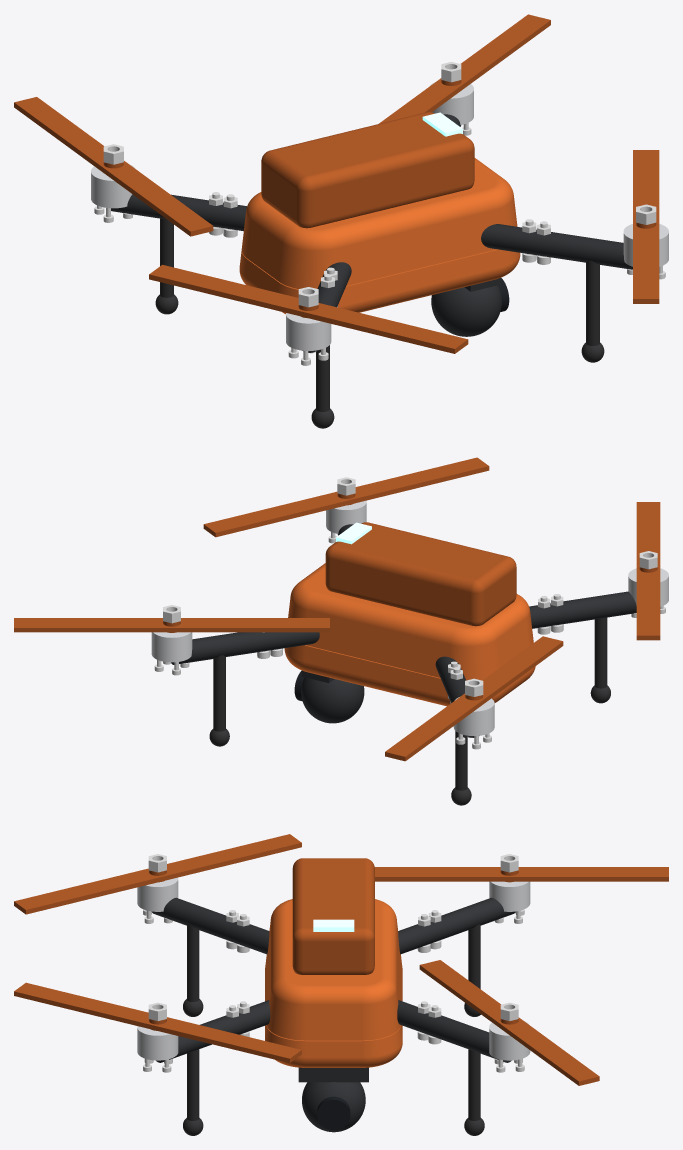
3 views of the same model, one above another, from view 1: azimuth 30°, elevation 25°; view 2: azimuth 150°, elevation 25°; view 3: azimuth 270°, elevation 25° (orthographic). The views are drawn at different scales.
Parts seen in each view (by area): view 1: body.2, accent.30, body.1, accent.14, accent.13, accent.12, coat.2, accent.11, coat.21, coat.3, metal.4, rubber.2 (+6 smaller); view 2: accent.30, body.2, body.1, accent.11, accent.12, accent.13, accent.14, coat.1, coat.4, coat.21, metal.1, metal.3 (+6 smaller); view 3: body.2, accent.30, accent.14, accent.12, accent.13, accent.11, body.1, coat.4, coat.3, coat.1, coat.21, coat.2 (+11 smaller).
Boxes of the visible parts, bbox=[...] form: body.2: bbox=[241, 158, 517, 288]; accent.30: bbox=[261, 112, 474, 228]; body.1: bbox=[239, 249, 520, 314]; accent.14: bbox=[149, 264, 468, 353]; accent.13: bbox=[14, 97, 213, 236]; accent.12: bbox=[633, 150, 659, 303]; coat.2: bbox=[481, 224, 632, 269]; accent.11: bbox=[379, 14, 550, 123]; coat.21: bbox=[431, 285, 501, 336]; coat.3: bbox=[111, 194, 246, 230]; metal.4: bbox=[286, 313, 331, 350]; rubber.2: bbox=[586, 260, 599, 345]; accent.30: bbox=[325, 522, 516, 626]; body.2: bbox=[288, 563, 533, 680]; body.1: bbox=[284, 645, 535, 706]; accent.11: bbox=[14, 618, 329, 632]; accent.12: bbox=[203, 457, 489, 537]; accent.13: bbox=[385, 636, 563, 761]; accent.14: bbox=[636, 502, 660, 640]; coat.1: bbox=[171, 632, 319, 664]; coat.4: bbox=[529, 591, 636, 628]; coat.21: bbox=[301, 677, 364, 723]; metal.1: bbox=[151, 632, 192, 662]; metal.3: bbox=[453, 697, 494, 735]; body.2: bbox=[266, 899, 400, 1040]; accent.30: bbox=[292, 858, 374, 974]; accent.14: bbox=[14, 834, 301, 914]; accent.12: bbox=[14, 982, 301, 1063]; accent.13: bbox=[374, 867, 668, 881]; accent.11: bbox=[419, 960, 599, 1085]; body.1: bbox=[265, 957, 402, 1067]; coat.4: bbox=[151, 897, 269, 954]; coat.3: bbox=[398, 897, 515, 954]; coat.1: bbox=[397, 1000, 511, 1062]; coat.21: bbox=[302, 1082, 365, 1132]; coat.2: bbox=[156, 1000, 270, 1062].
Bounding box in the file's own units: 0.2568 × 0.0945 × 0.2872.
